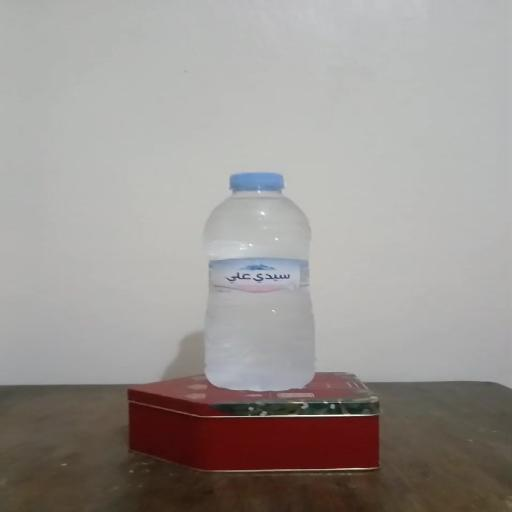bouteille conformite: (170, 150, 332, 396)
